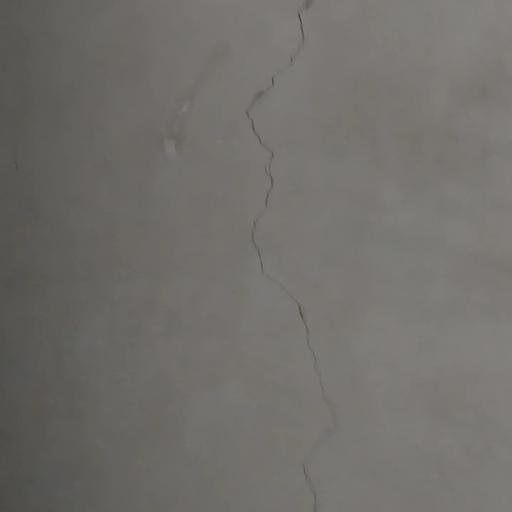minor_crack: (231, 0, 349, 512)
